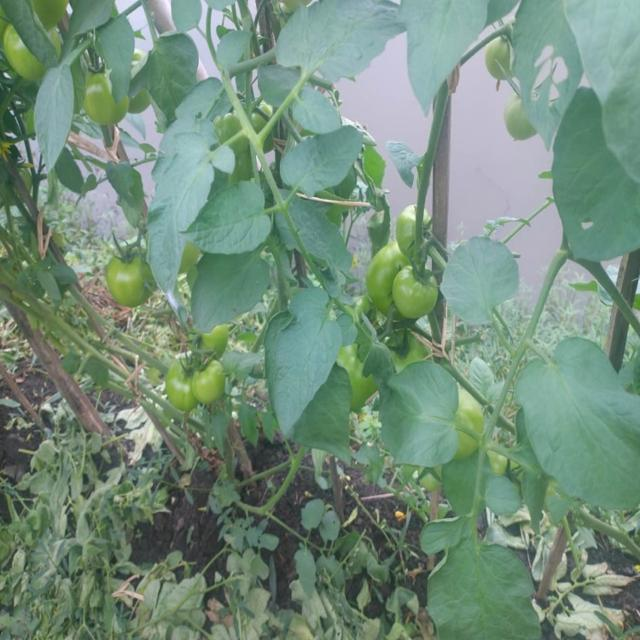tomato: (391, 255, 438, 320), (109, 253, 155, 312), (80, 68, 117, 133), (340, 350, 385, 403), (1, 33, 41, 87), (371, 245, 401, 316), (457, 397, 489, 458), (196, 361, 231, 409), (505, 98, 536, 150), (485, 39, 513, 87), (388, 336, 431, 367), (200, 324, 232, 365), (395, 198, 418, 250), (167, 364, 194, 407)
